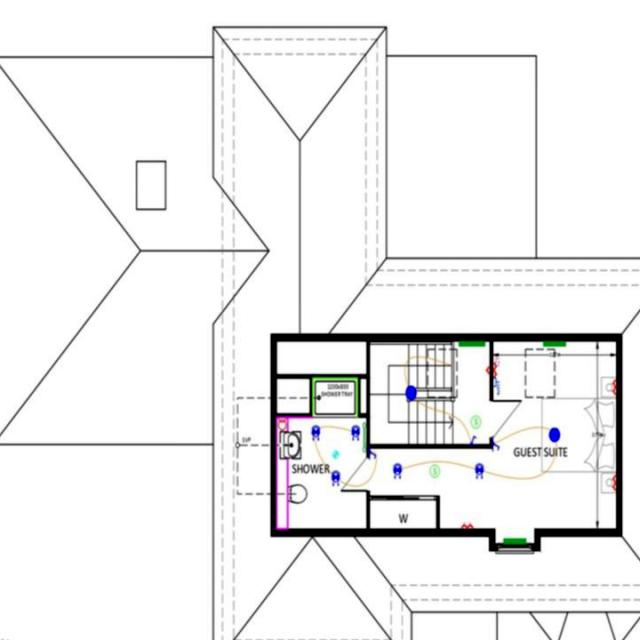Cat 6 Data Socket: (492, 377, 502, 395)
Ceiling Mounted Continuous Extract FanWith Boost Mode Activated By Light Switch: (332, 449, 338, 458)
Double Socket: (610, 474, 615, 490), (610, 378, 615, 394), (460, 521, 473, 527), (492, 363, 498, 375)
Full Height Tiling: (310, 376, 358, 415)
Light Switch: (368, 450, 377, 460), (468, 433, 478, 442), (492, 441, 500, 451)
Low Energy Downlighter: (330, 469, 340, 487), (349, 424, 360, 440), (392, 462, 402, 479), (473, 462, 482, 479), (310, 425, 319, 440)
Low Energy Pendant Light: (548, 426, 559, 442), (404, 385, 416, 399)
Mains Wired Smoke Detector: (469, 414, 480, 428), (429, 463, 439, 477)
Radiator: (542, 339, 566, 346), (457, 340, 484, 346), (502, 538, 527, 543)
Shaver Socket: (277, 416, 287, 431)
Single Socket: (483, 365, 489, 375), (492, 354, 498, 362)
